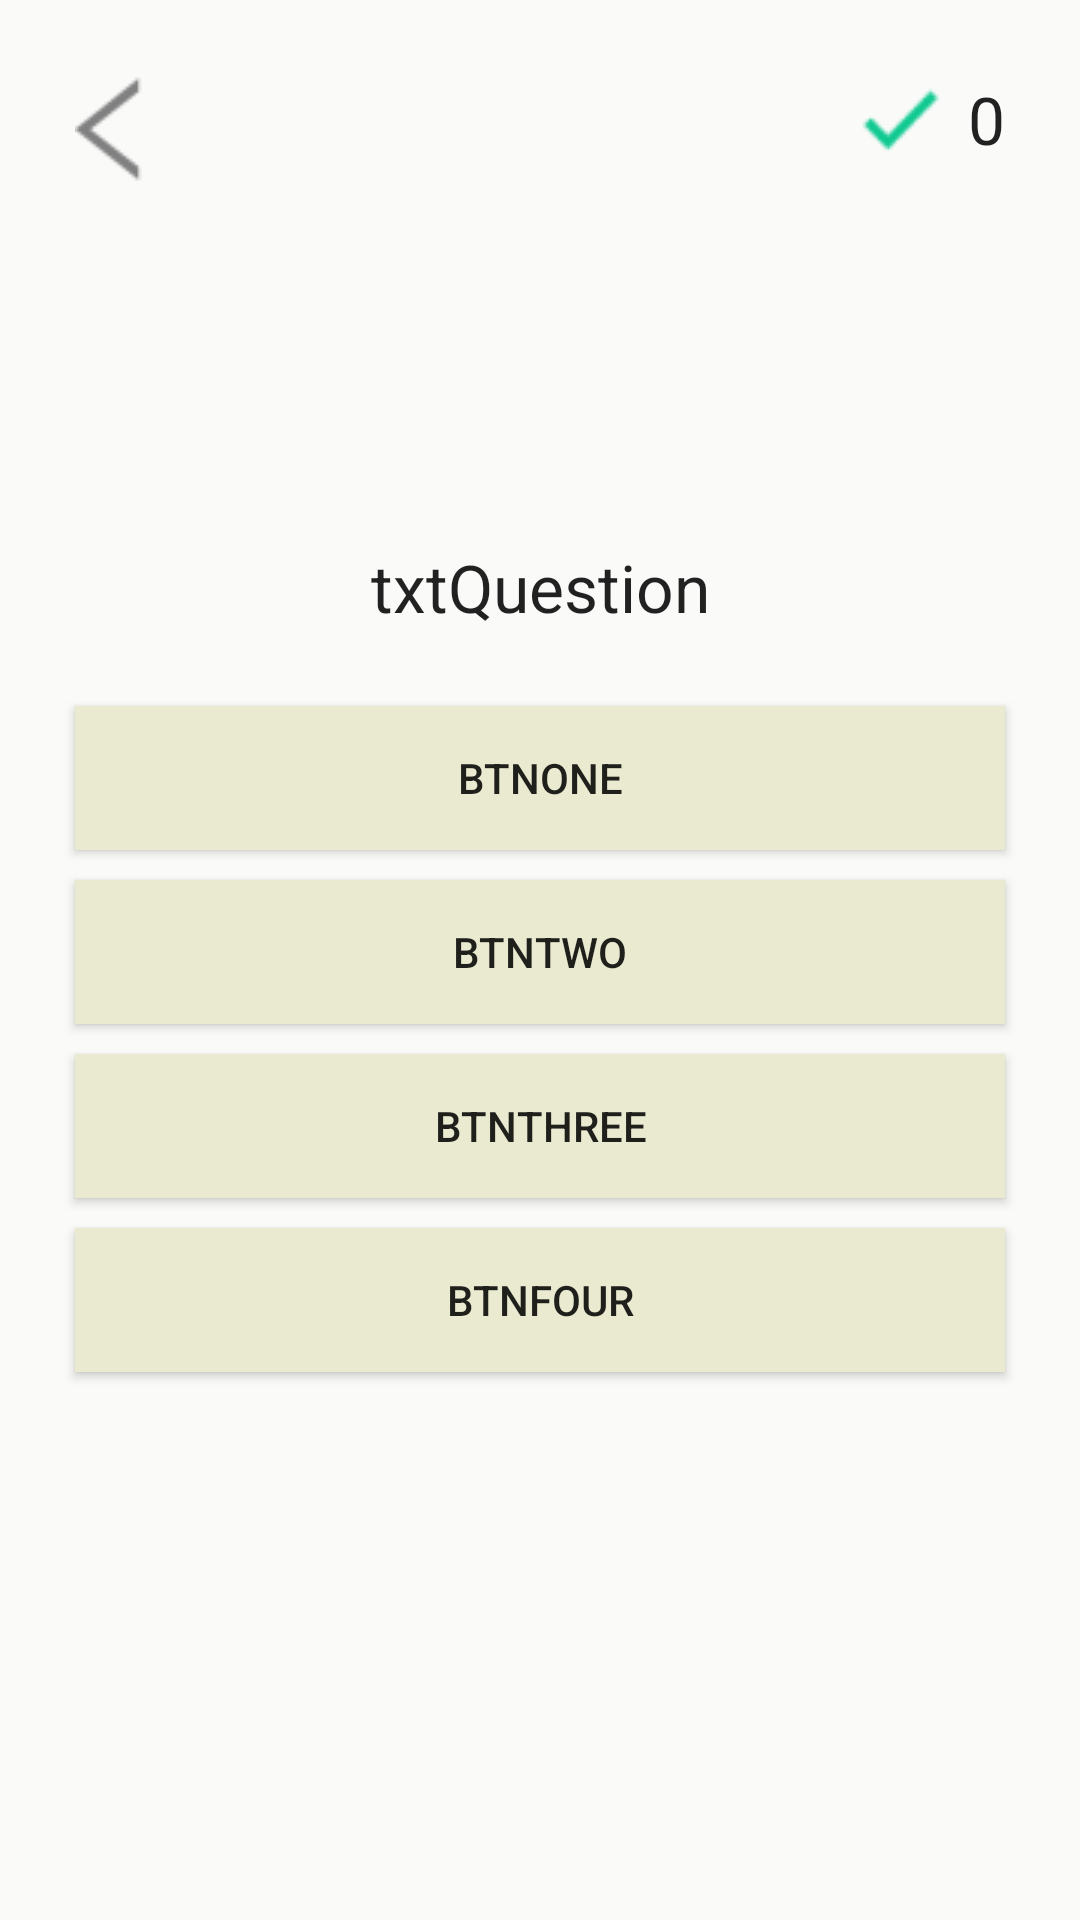

Icon click points for this 1080 × 1920 phone screenshot, format (x=x, y=y):
back: (x=107, y=129)
